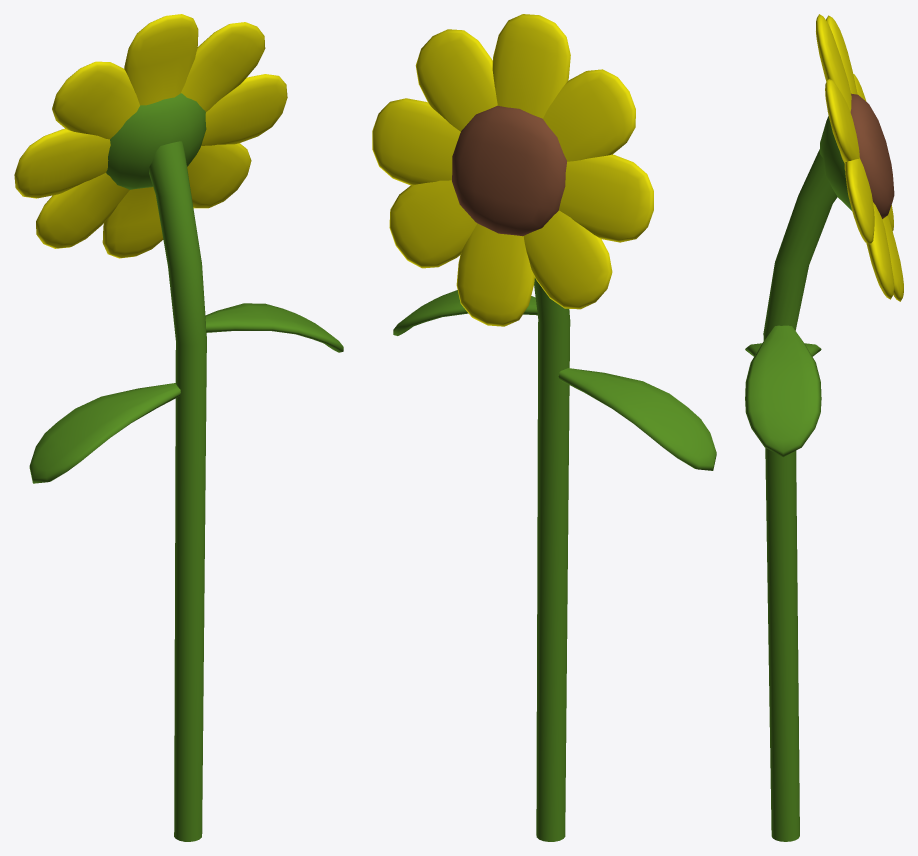
The model's file is prop35.fbx.
The picture shows the model from 3 angles, left to right: view 1: azimuth 30°, elevation 25°; view 2: azimuth 150°, elevation 25°; view 3: azimuth 270°, elevation 25°; orthographic projection. The views are drawn at different scales.
Visible parts, largest first — view 1: Cylinder.026; view 2: Cylinder.026; view 3: Cylinder.026.
Part boxes in pixels (box(x1,y1,x2,y2)): Cylinder.026: box(14, 14, 343, 841); Cylinder.026: box(372, 14, 716, 841); Cylinder.026: box(745, 14, 903, 841).
Bounding box in the file's own units: 0.6542 × 0.2905 × 1.64.
